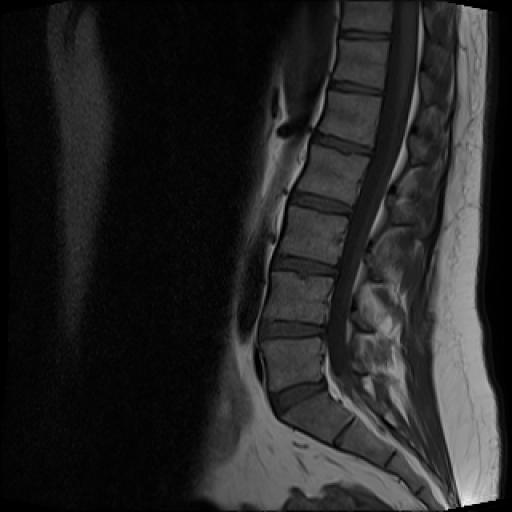L1: (319, 91, 382, 146)
L2: (297, 144, 369, 204)
L3: (278, 205, 348, 264)
L4: (266, 274, 332, 324)
L5: (261, 338, 322, 392)
S1: (282, 389, 351, 444)
